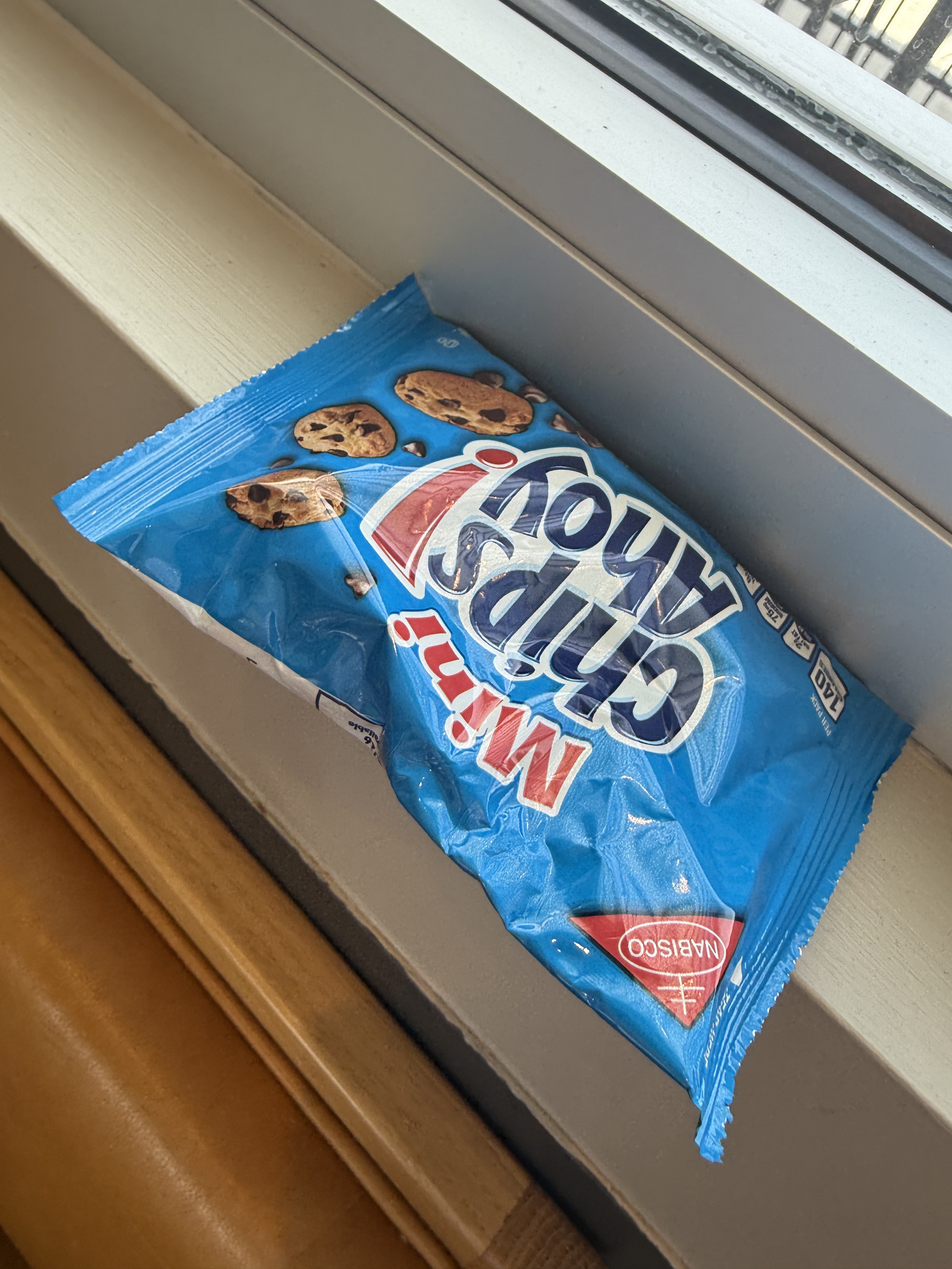chips_ahoy: (22, 528, 548, 1269)
